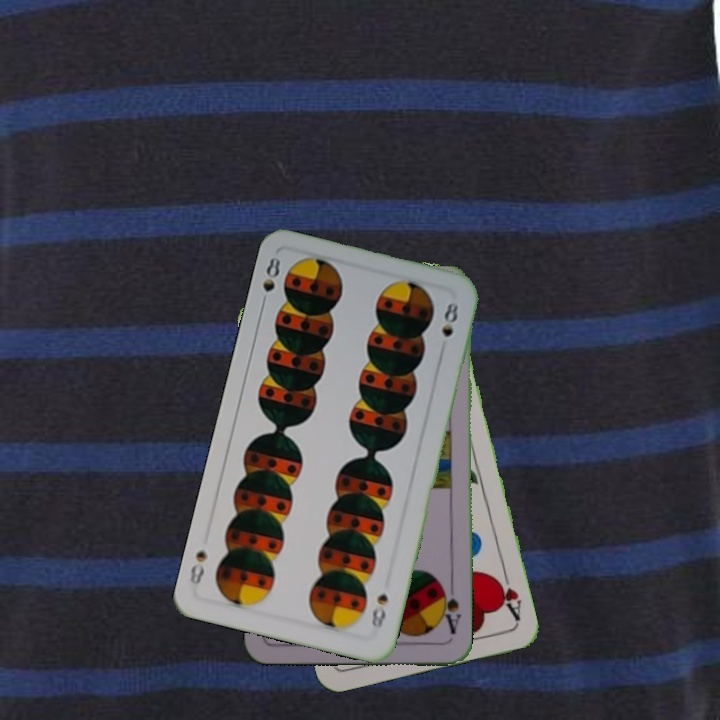HA: (491, 566, 525, 624)
S8: (257, 253, 283, 310), (367, 590, 391, 631)
SA: (437, 580, 464, 637)
